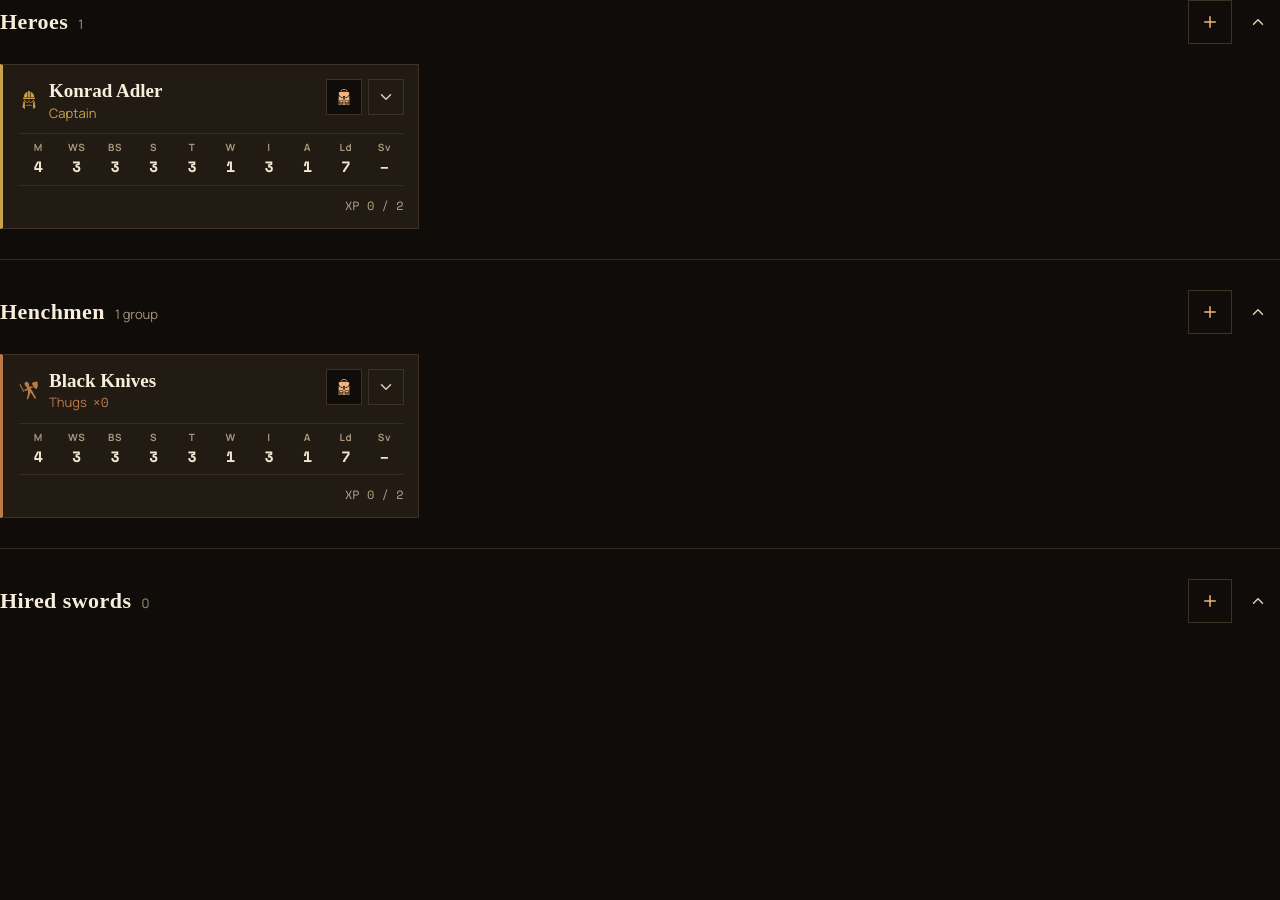
The roster's sections on a phone › adds with a plus in each section, which opens what the old buttons did
The image size is (1280, 900).
Later steps or results of the test are not shown.
Click the button named "Add hero" at x=1210, y=22, box [1188,0,1232,44]
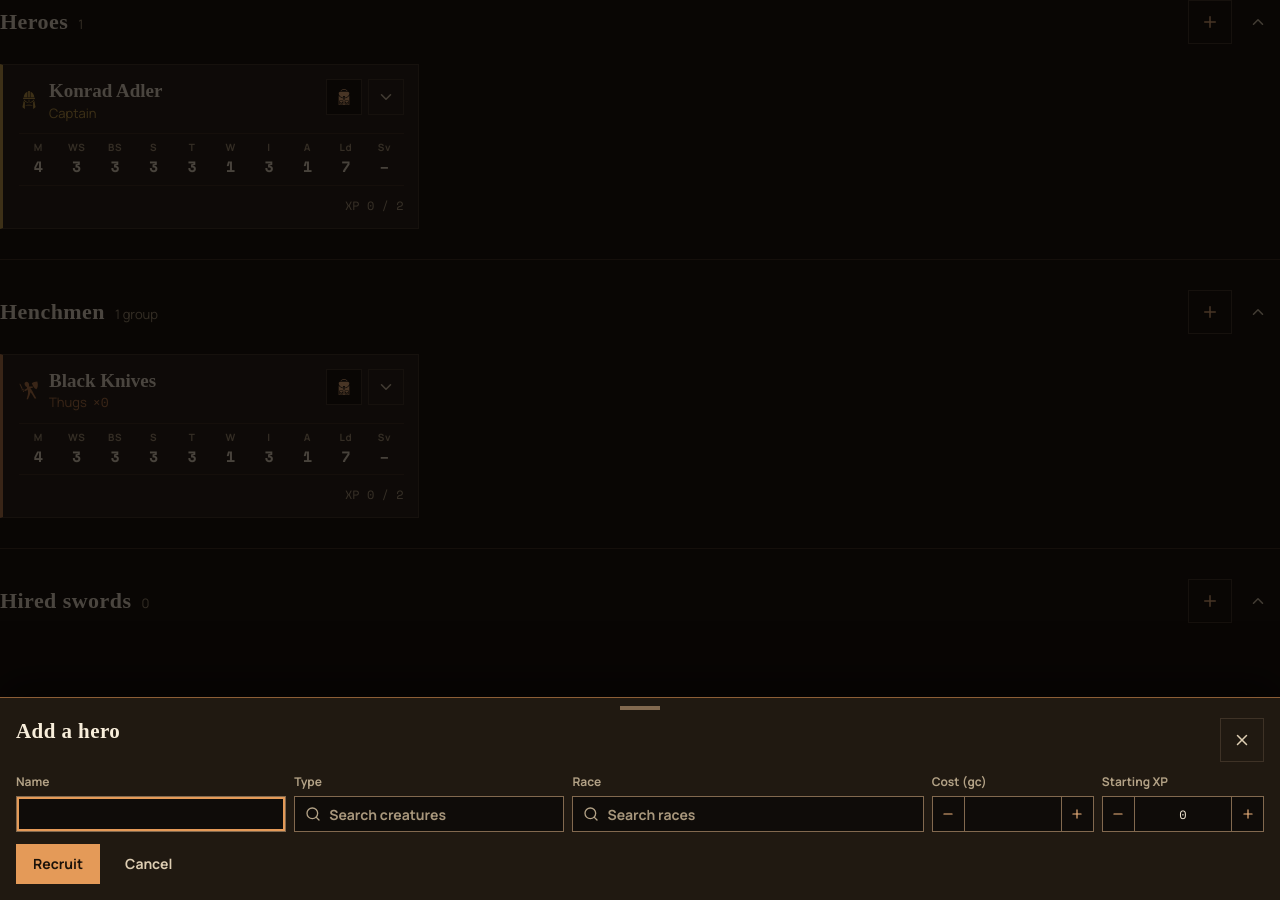
expect the dialog "Add a hero" is shown: met, box [0,697,1279,899]
Press Escape
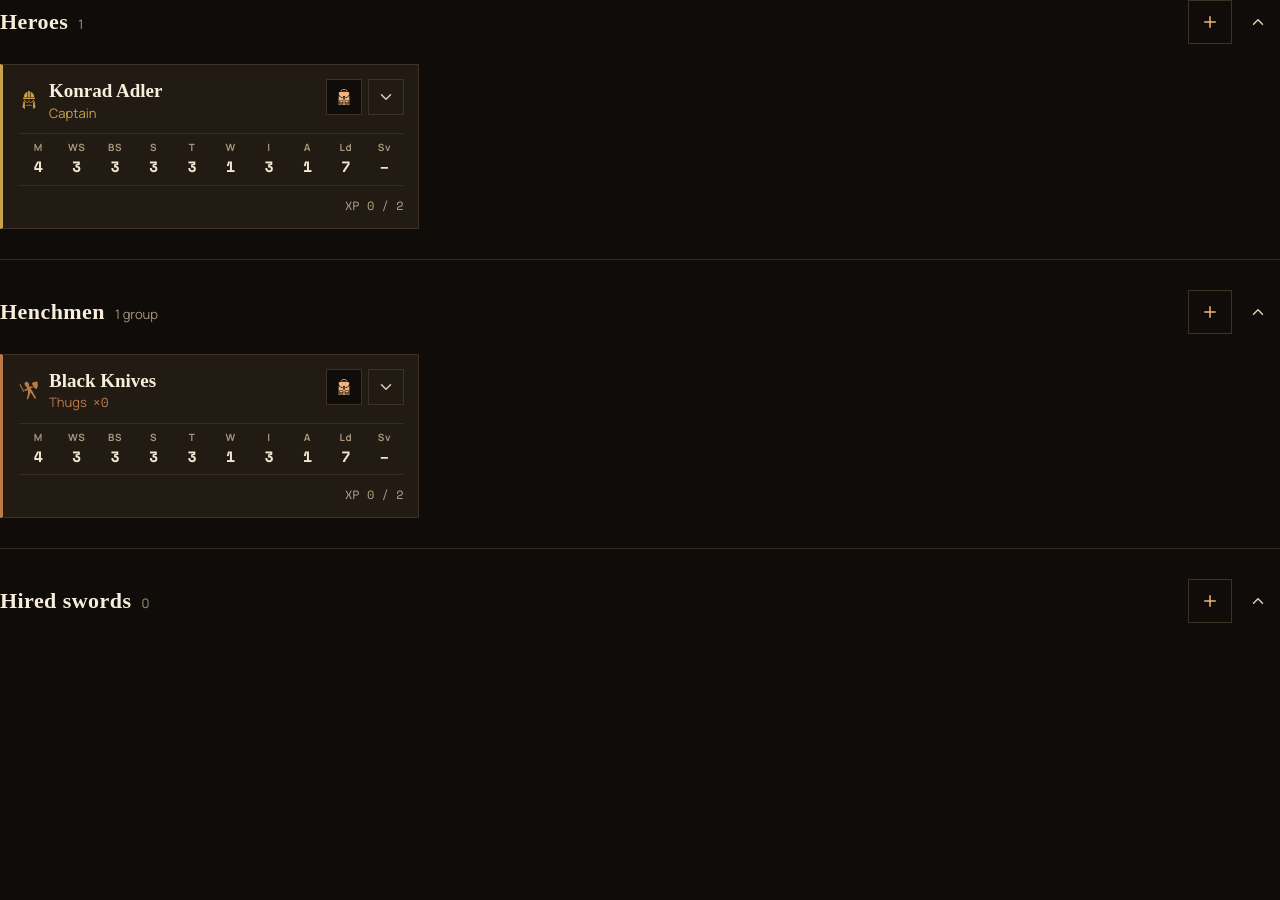
Click the button named "Add henchmen group" at x=1210, y=312, box [1188,290,1232,334]
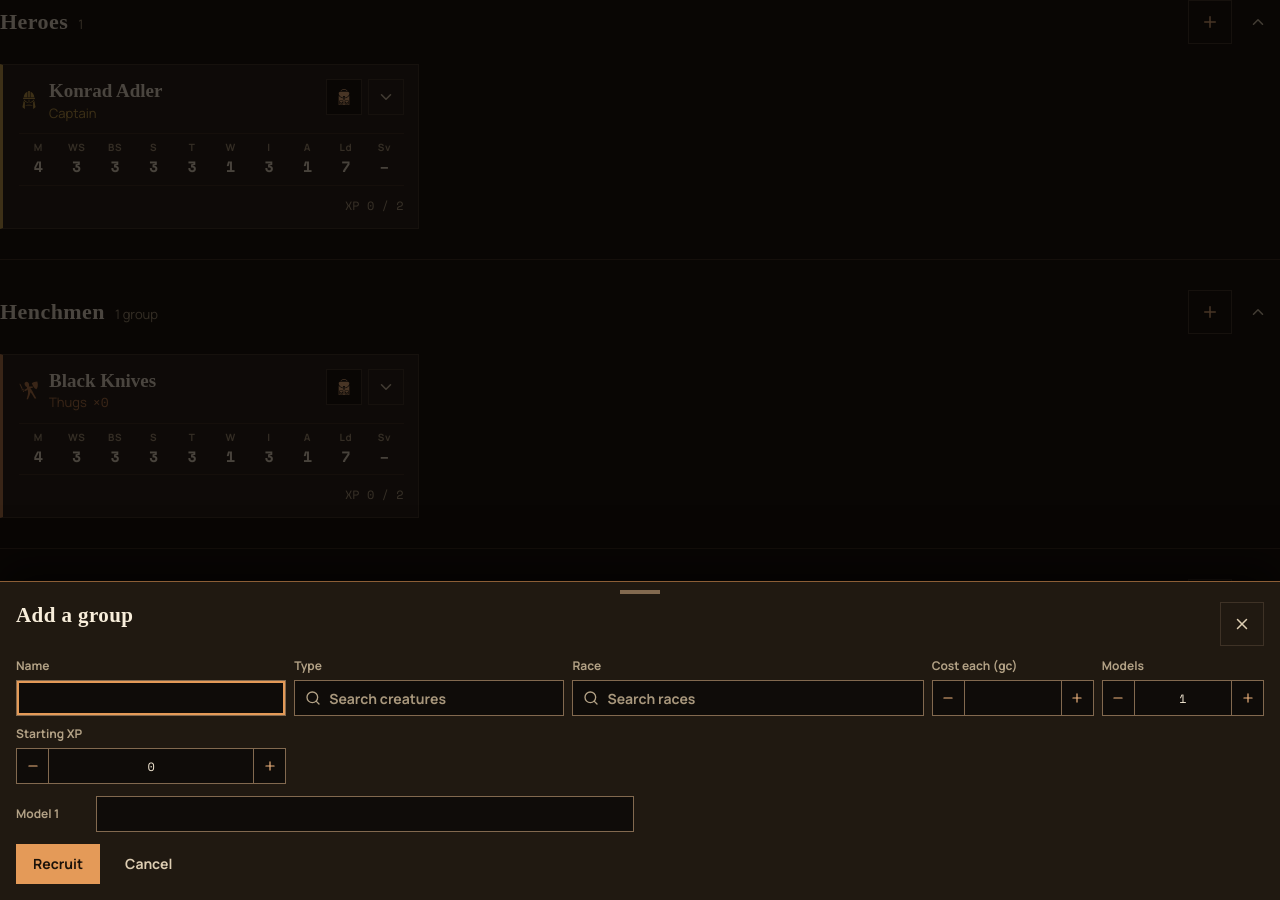
expect the dialog "Add a group" is shown: met, box [0,581,1279,899]
